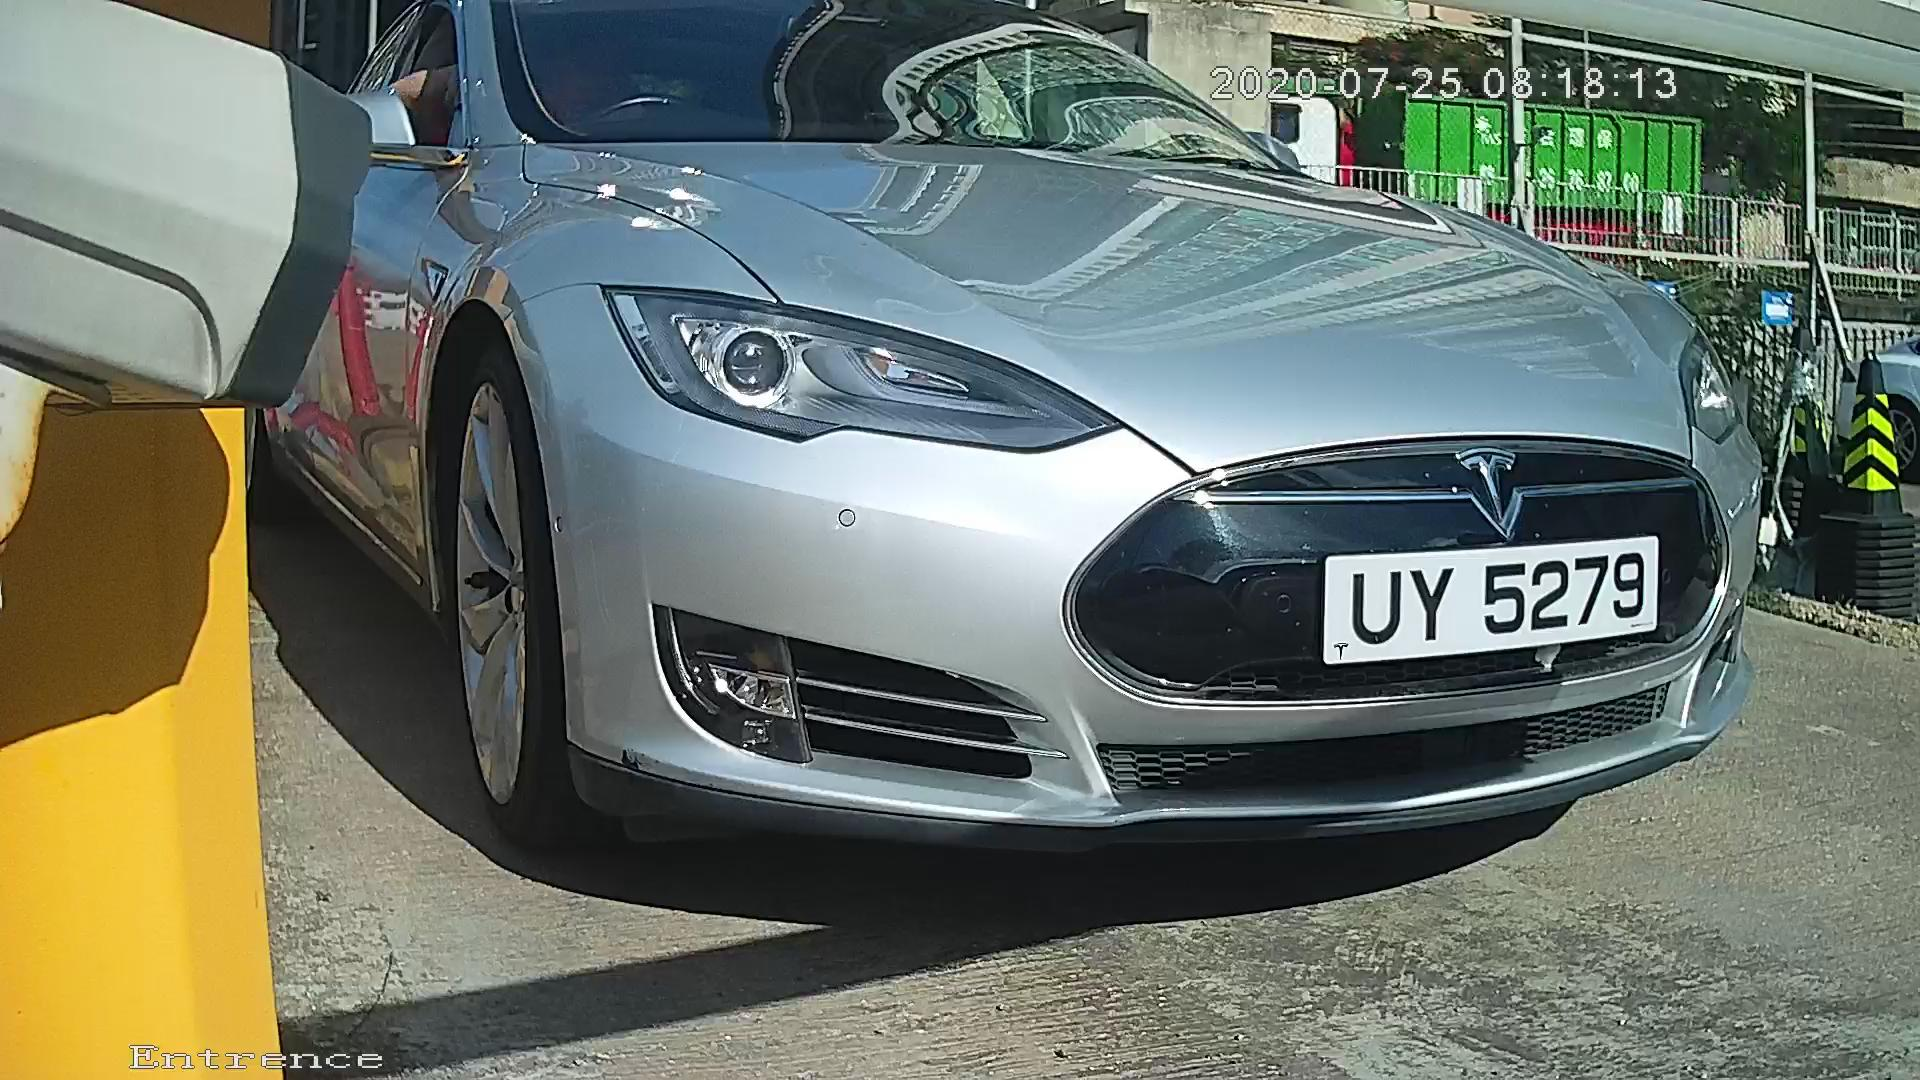License Plate: (1312, 516, 1672, 680)
